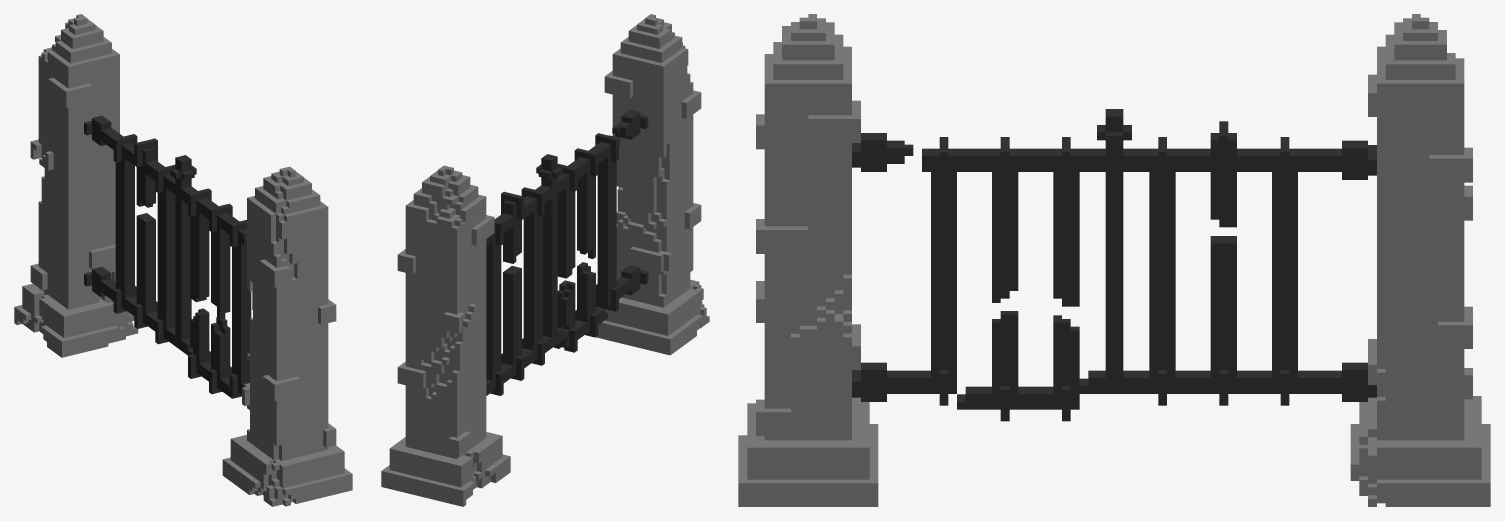
The model's file is Background_A_door_03.FBX.
The picture shows the model from 3 angles, left to right: view 1: azimuth 30°, elevation 25°; view 2: azimuth 150°, elevation 25°; view 3: azimuth 270°, elevation 25°; orthographic projection. The views are drawn at different scales.
Parts seen in each view (by area): view 1: Load_A-19; view 2: Load_A-19; view 3: Load_A-19.
Boxes of the visible parts, x1,y1,x2,y2 form: Load_A-19: (14,14,352,506); Load_A-19: (381,14,709,506); Load_A-19: (738,14,1490,506).
Size of the model in its own units: 1.6 by 5.8 by 8.6.
Materials: 1 (1 with a texture image).
